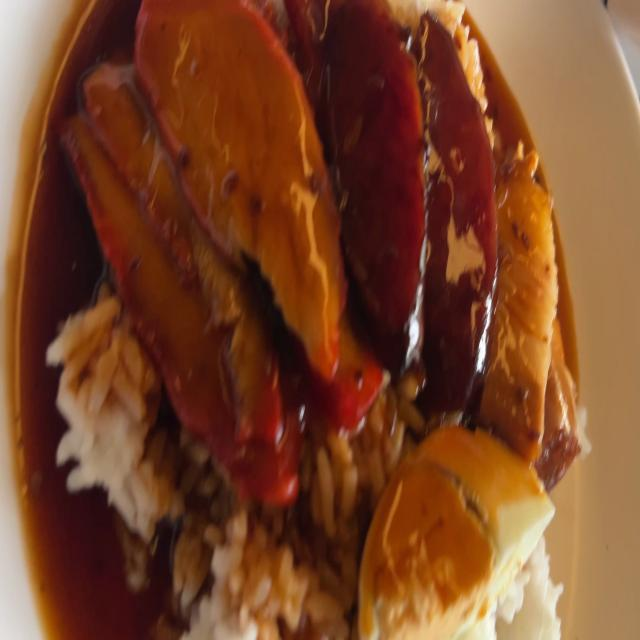01boiled_egg: (364, 431, 546, 640)
01chainese_sausage: (341, 0, 492, 420), (331, 0, 422, 355), (416, 14, 492, 418)
01crispy_pork: (489, 146, 572, 465)
01red_pork: (54, 0, 352, 462), (74, 62, 289, 483), (144, 0, 343, 359)
01red_pork_and_crispy_pork: (51, 0, 587, 640)
01rice: (160, 486, 339, 636), (54, 303, 153, 522), (513, 584, 569, 640)
